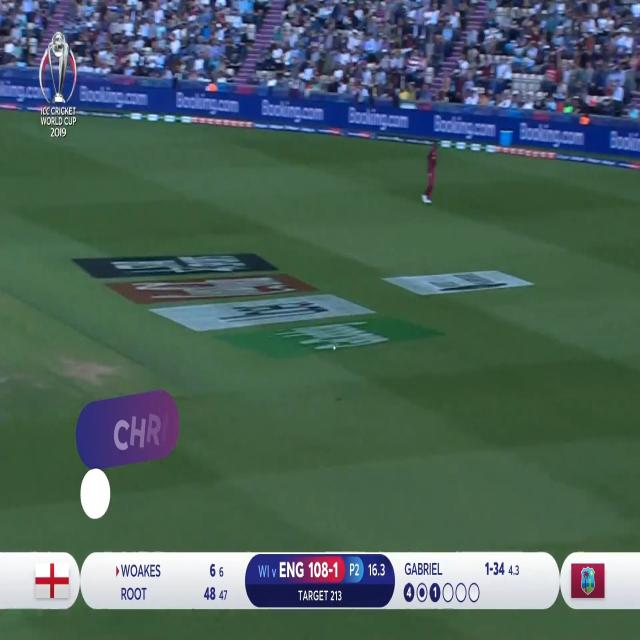ball: (329, 339, 342, 360)
